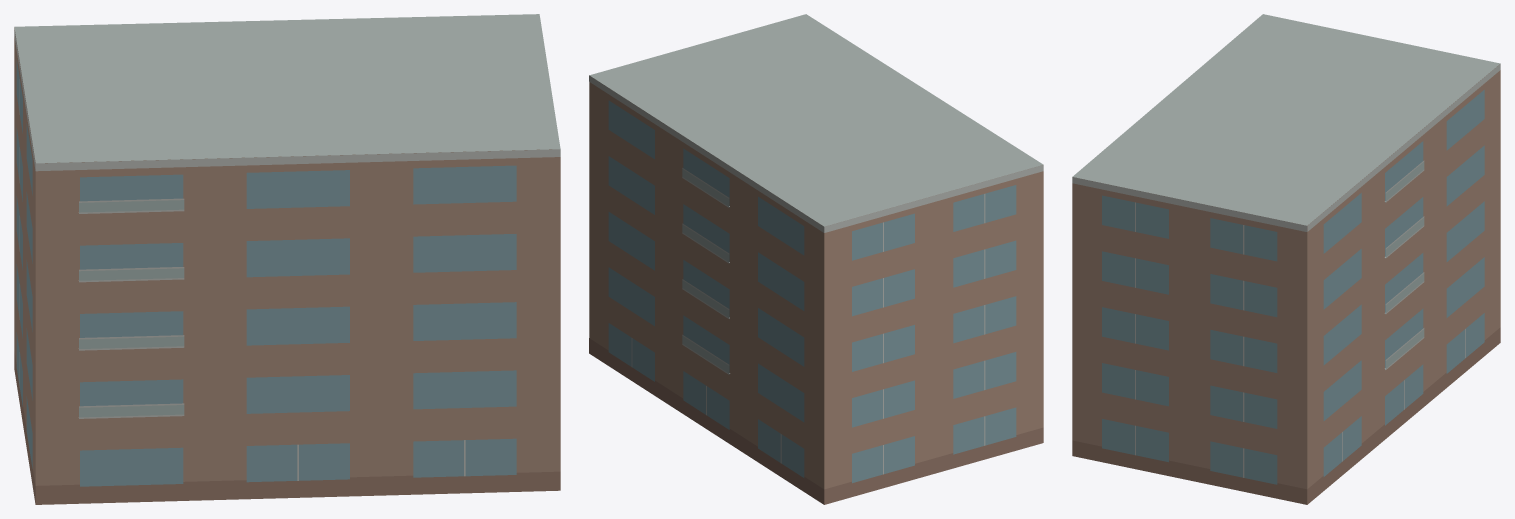
The model's file is survey-upis-32972469.glb.
3 renders of one model, left to right at view 1: azimuth 30°, elevation 25°; view 2: azimuth 150°, elevation 25°; view 3: azimuth 270°, elevation 25°, orthographic. The views are drawn at different scales.
Visible parts, largest first — view 1: survey-upis-32972469.tmp; view 2: survey-upis-32972469.tmp; view 3: survey-upis-32972469.tmp.
Part boxes in pixels (x1=…): survey-upis-32972469.tmp: x1=14, y1=14, x2=560, y2=504; survey-upis-32972469.tmp: x1=589, y1=14, x2=1043, y2=504; survey-upis-32972469.tmp: x1=1072, y1=14, x2=1500, y2=504.
Size of the model in its own units: 17.26 by 10.6 by 14.75.
